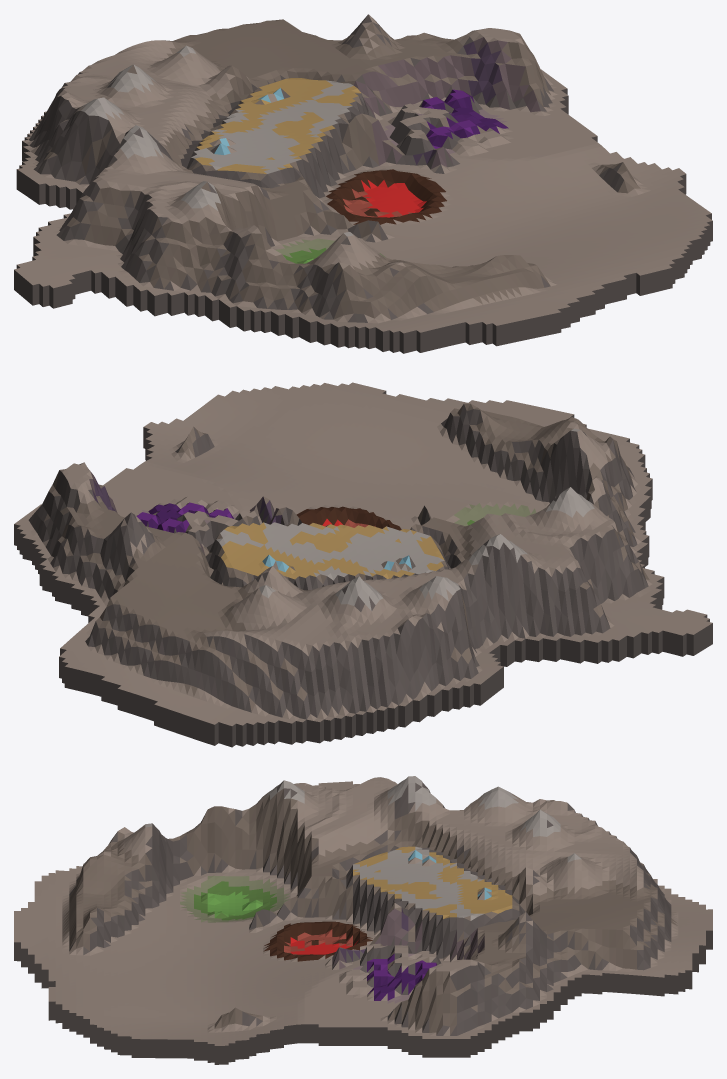
Rendered from dragons-lair-terrain-26fac6.glb.
3 views of the same model, one above another, from view 1: azimuth 30°, elevation 25°; view 2: azimuth 150°, elevation 25°; view 3: azimuth 270°, elevation 25° (orthographic). The views are drawn at different scales.
Parts seen in each view (by area): view 1: lair-ground; view 2: lair-ground; view 3: lair-ground.
Part boxes in pixels (box(x1,y1,x2,y2)): lair-ground: box(14, 14, 712, 353); lair-ground: box(14, 382, 712, 747); lair-ground: box(14, 776, 712, 1064).
Size of the model in its own units: 92 by 16.79 by 101.
